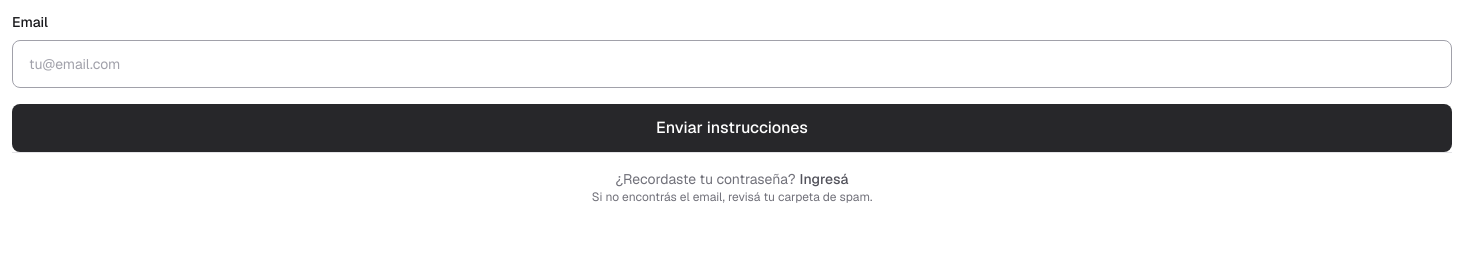
PasswordRecoveryForm with real Authorizer › shows the real backend error
Type "cliente@example.com" into the field labelled "Email".
click(732, 64); type("cliente@example.com")  # box [12, 40, 1452, 88]
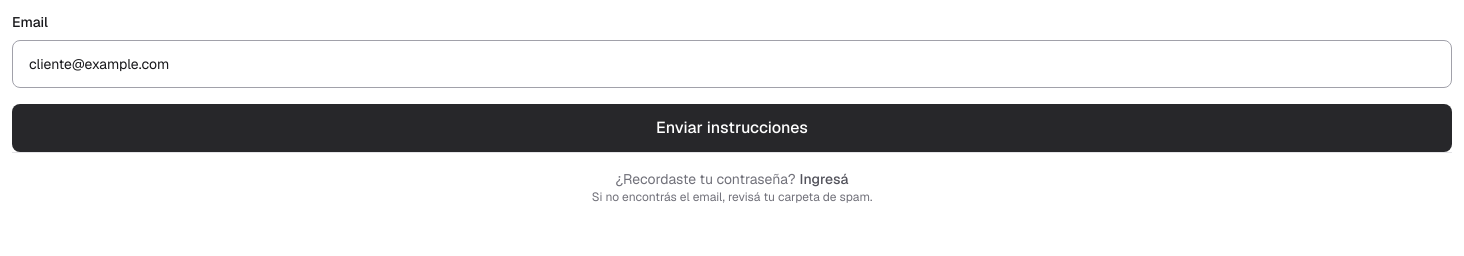
Click the button "Enviar instrucciones".
click(732, 128)  # box [12, 104, 1452, 152]
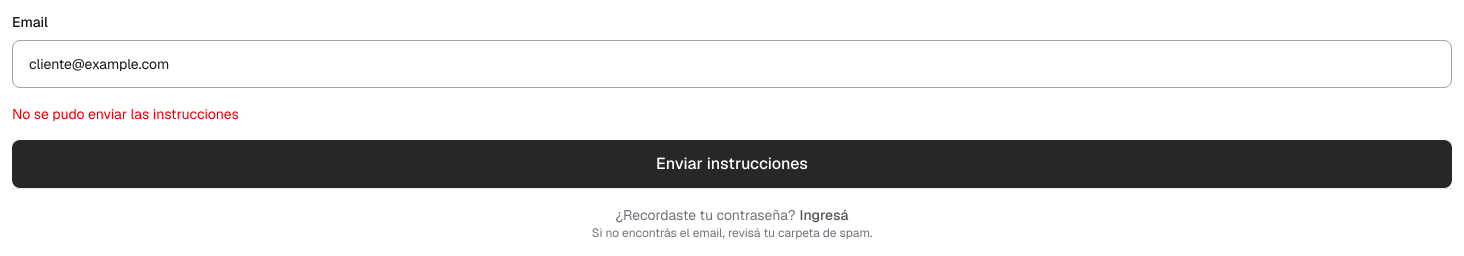
Check: the message reads "No se pudo enviar las instrucciones", box [12, 105, 239, 123]
